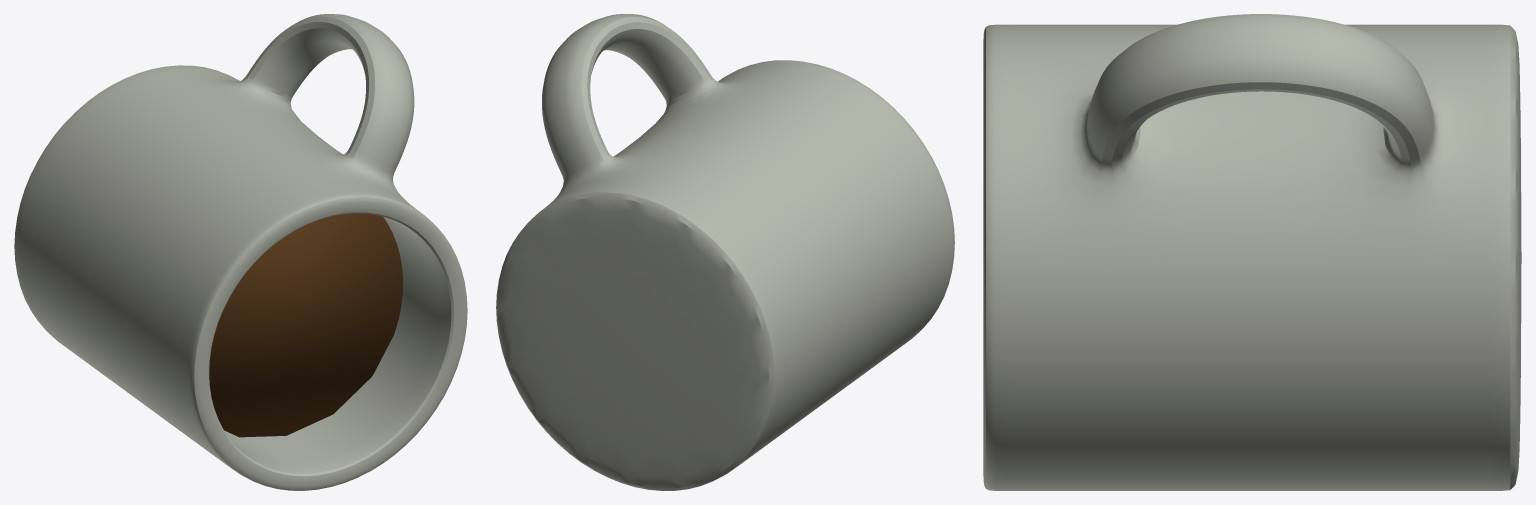
Rendered from mug_padre.fbx.
The picture shows the model from 3 angles, left to right: view 1: azimuth 30°, elevation 25°; view 2: azimuth 150°, elevation 25°; view 3: azimuth 270°, elevation 25°; orthographic projection. The views are drawn at different scales.
Visible parts, largest first — view 1: mug, coffee; view 2: mug; view 3: mug.
Boxes of the visible parts, left/top/right/bottom form: mug: left=14, top=14, right=467, bottom=490; coffee: left=209, top=213, right=402, bottom=437; mug: left=496, top=14, right=954, bottom=490; mug: left=983, top=14, right=1521, bottom=490.
Bounding box in the file's own units: 118 × 142 × 129.
